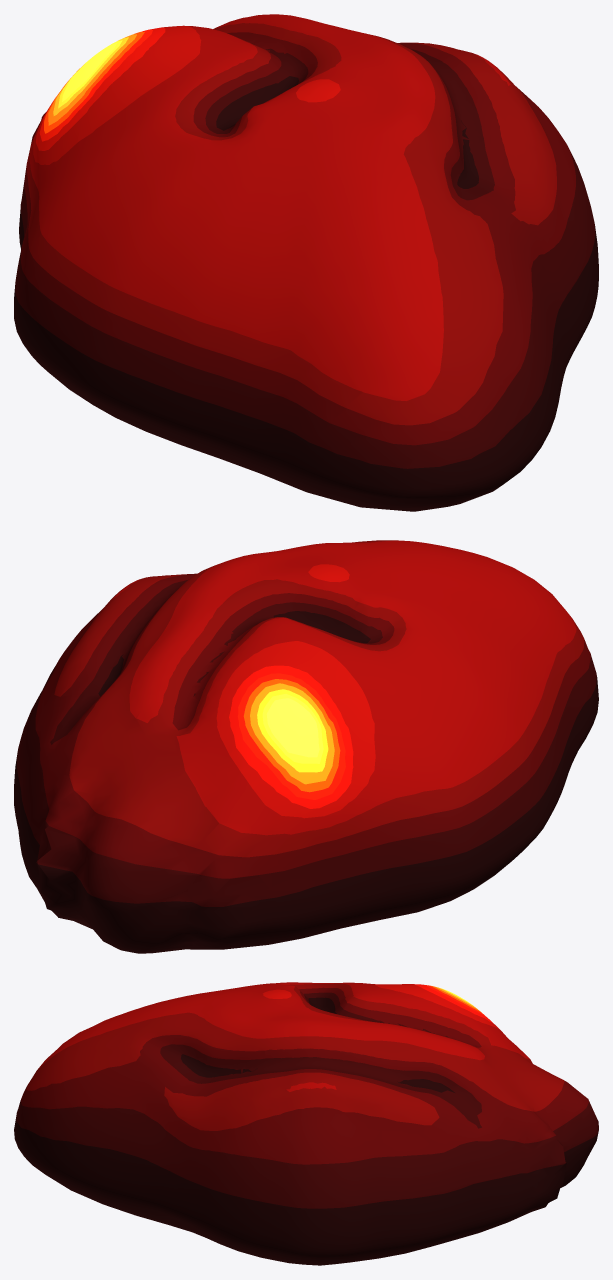
Rendered from blob_big_125.glb.
3 renders of one model, top to bottom at view 1: azimuth 30°, elevation 25°; view 2: azimuth 150°, elevation 25°; view 3: azimuth 270°, elevation 25°, orthographic. The views are drawn at different scales.
Parts seen in each view (by area): view 1: blob_big_125; view 2: blob_big_125; view 3: blob_big_125.
Part boxes in pixels (x1,y1,x2,y2): blob_big_125: (14,14,598,511); blob_big_125: (14,540,598,953); blob_big_125: (14,982,598,1265).
Size of the model in its own units: 17.9 by 10.84 by 25.95.
